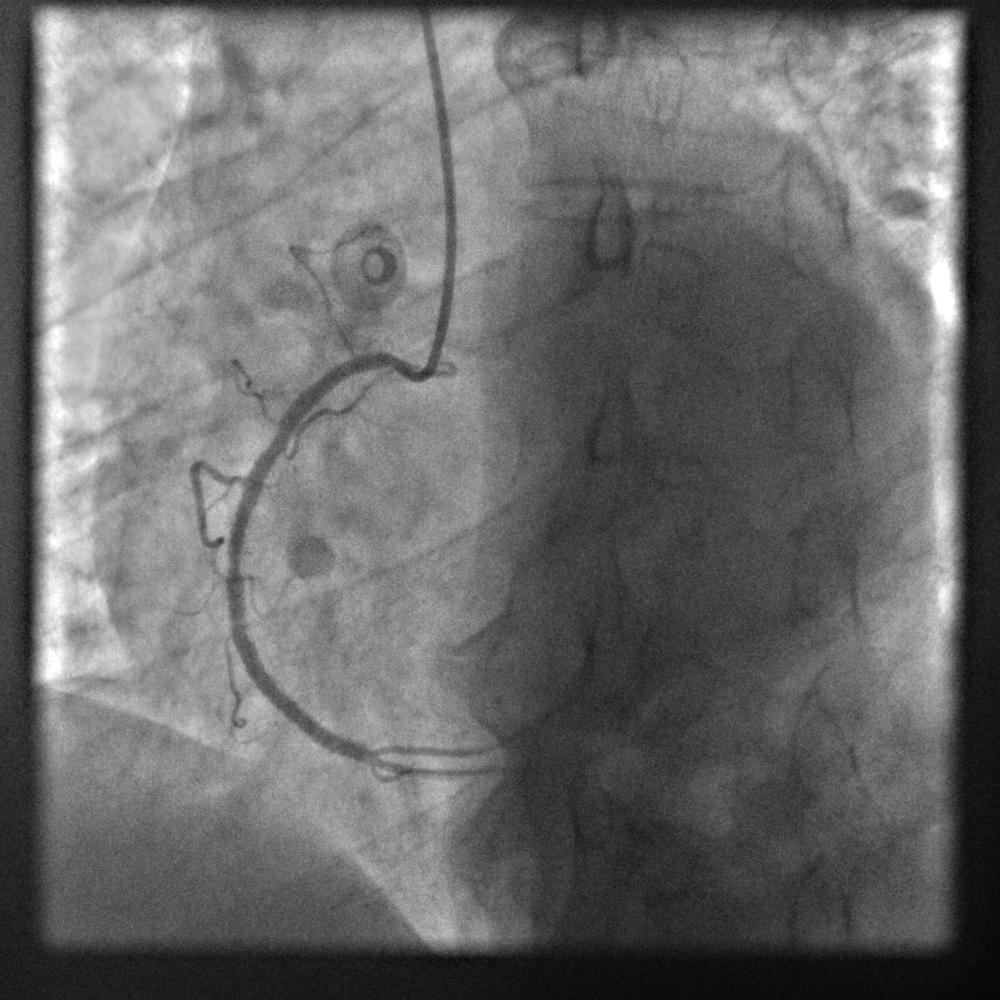Stenosis: (261, 413, 295, 472)
